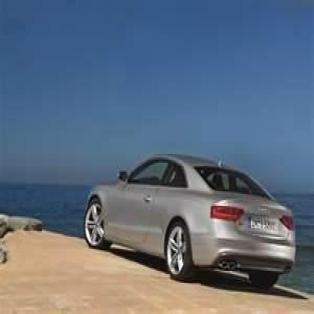Auto: (83, 152, 296, 289)
